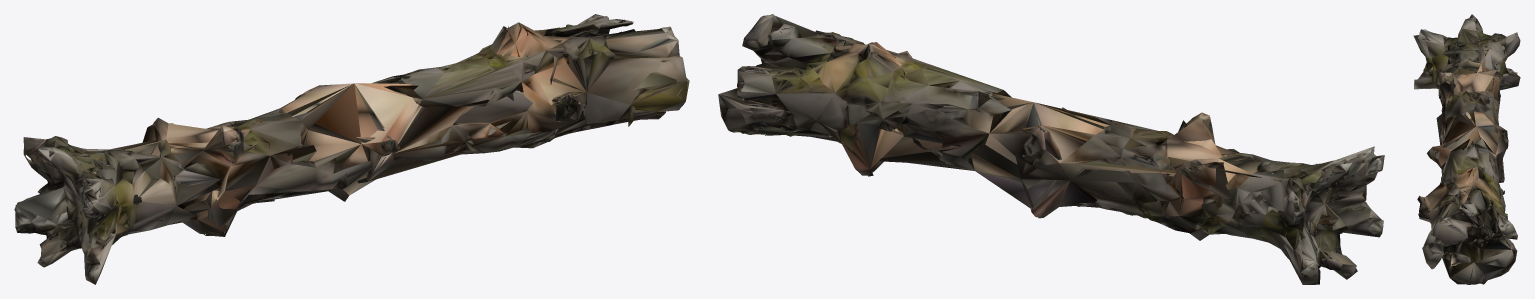
Rendered from baum-stamm-2.glb.
3 renders of one model, left to right at view 1: azimuth 30°, elevation 25°; view 2: azimuth 150°, elevation 25°; view 3: azimuth 270°, elevation 25°, orthographic. The views are drawn at different scales.
Visible parts, largest first — view 1: Mesh_0; view 2: Mesh_0; view 3: Mesh_0.
Boxes of the visible parts, left/top/right/bottom form: Mesh_0: left=14, top=14, right=689, bottom=284; Mesh_0: left=718, top=14, right=1384, bottom=284; Mesh_0: left=1413, top=14, right=1520, bottom=284.
Bounding box in the file's own units: 1.89 × 0.3676 × 0.4274.
Materials: 1 (1 with a texture image).
